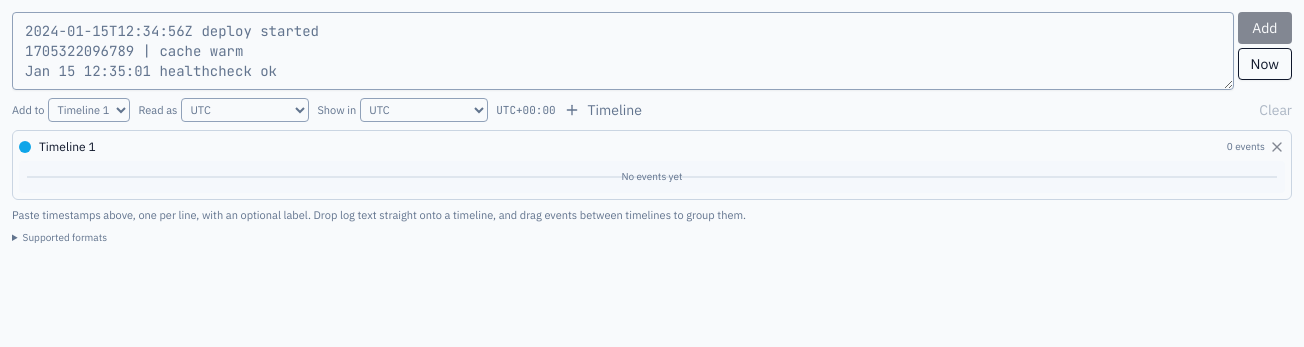
Scenario: TimelineBuilderWidget › keeps saying which zone an event was read in after the picker moves on
Select "UTC" in the dropdown named "display time zone": (424, 110) [360,98,488,122]
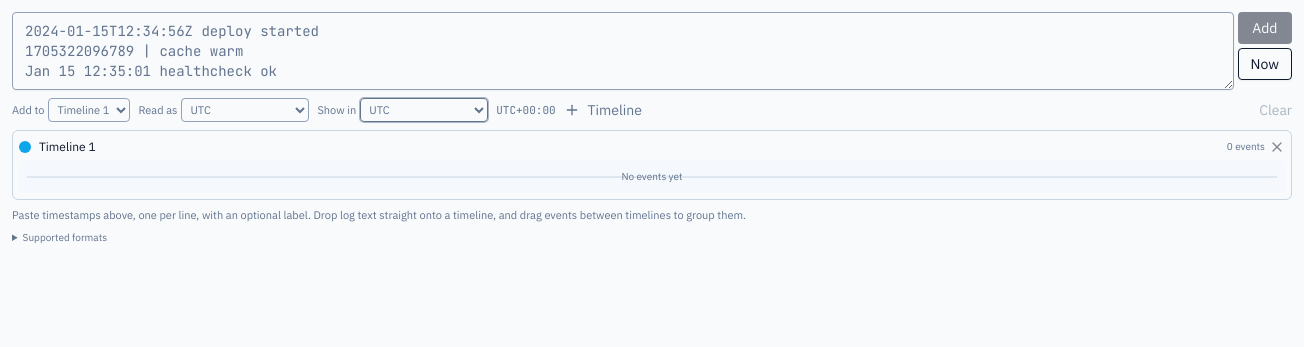
Select "Europe/Paris" in the dropdown named "input time zone": (245, 110) [181,98,309,122]
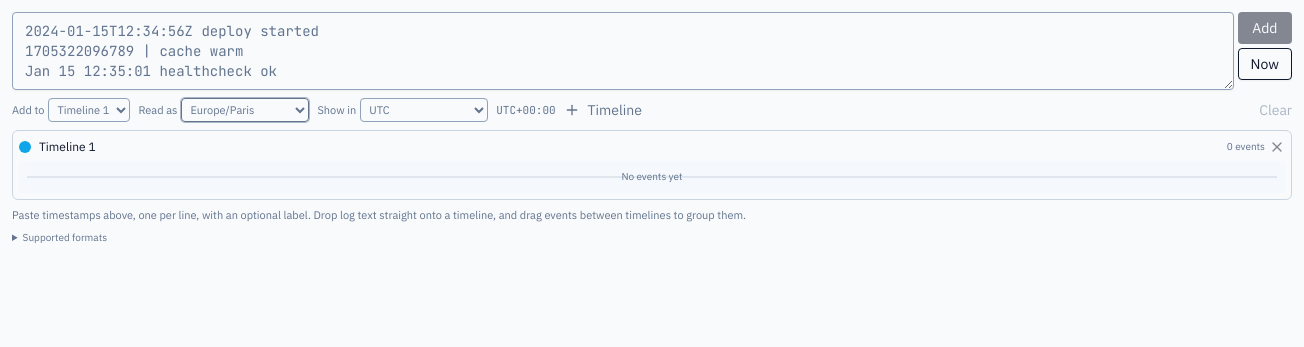
Replace the text in the text box named "timestamps to add" with "2024-01-15 13:34:56 paris log line": (623, 51) [12,12,1234,90]
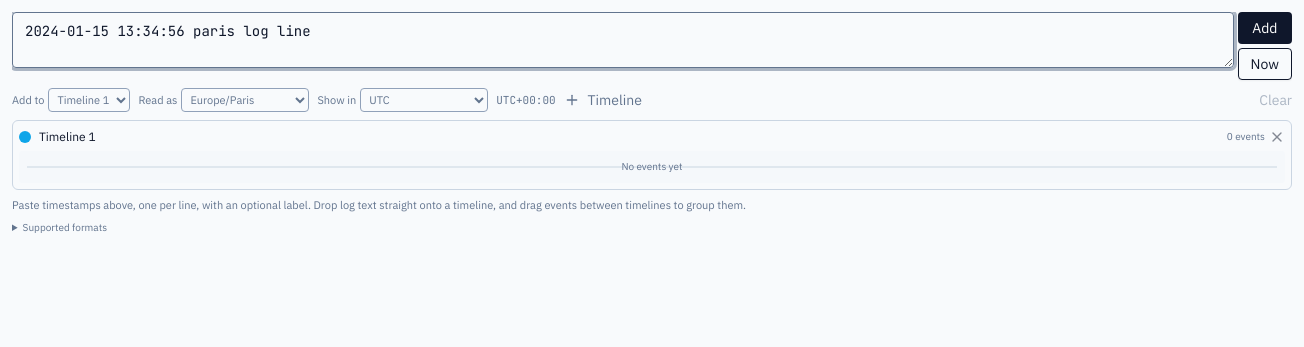
Click the button "Add": (1265, 28) [1238,12,1292,44]
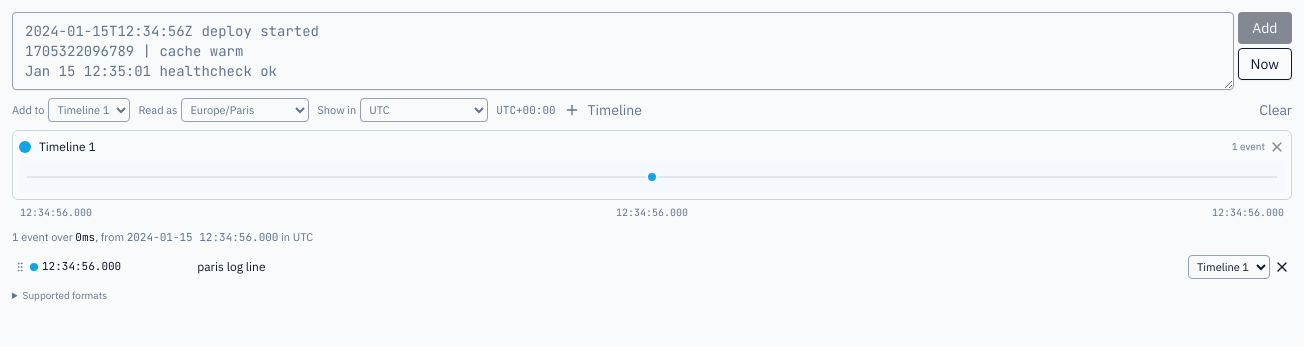
Select "UTC" in the dropdown named "input time zone": (245, 110) [181,98,309,122]
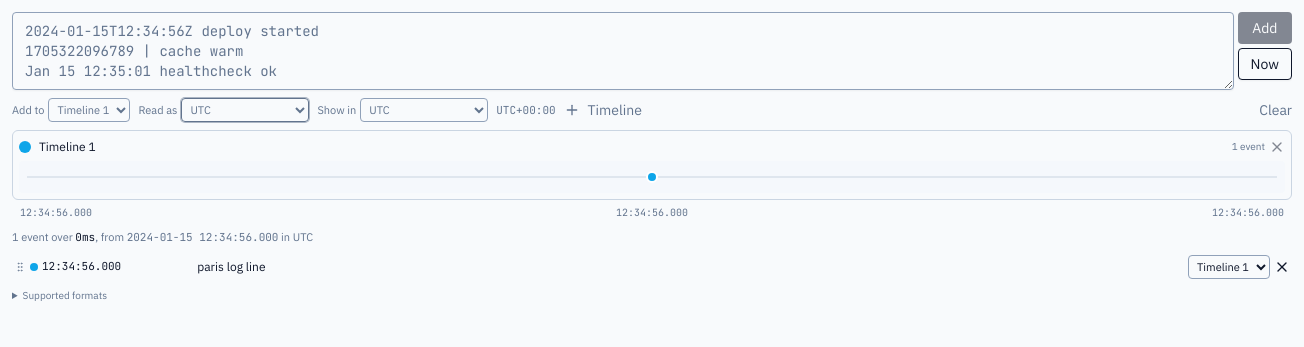
Click the button named "show details for event at 12:34:56": (76, 267) [30,259,121,274]
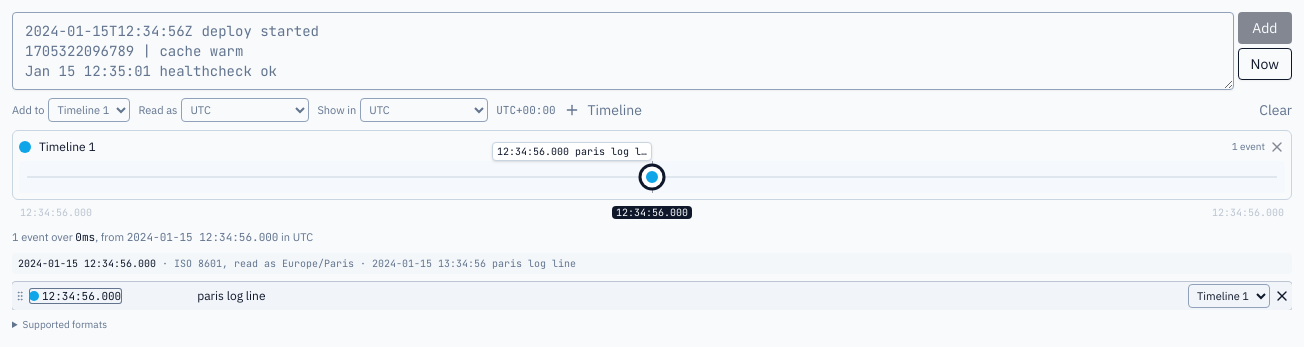
Expected: the text "read as Europe/Paris" is shown, [222,257,354,270]
